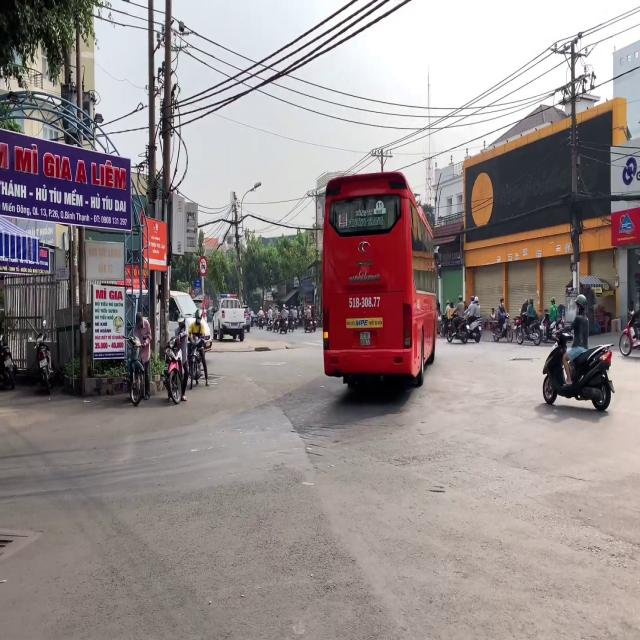bien_trang: (360, 332, 370, 346)
